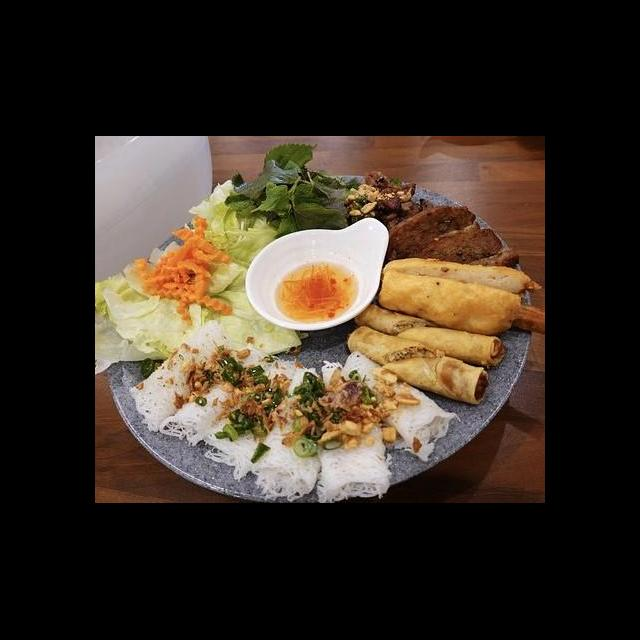banh hoi: (338, 348, 463, 467), (126, 318, 241, 438), (200, 354, 306, 484), (157, 338, 280, 449), (310, 356, 396, 504), (249, 362, 328, 504)
banh hoi heo quay: (128, 177, 535, 503)
cha gio: (345, 324, 493, 410), (350, 300, 511, 372)
dua chua: (131, 212, 237, 328)
